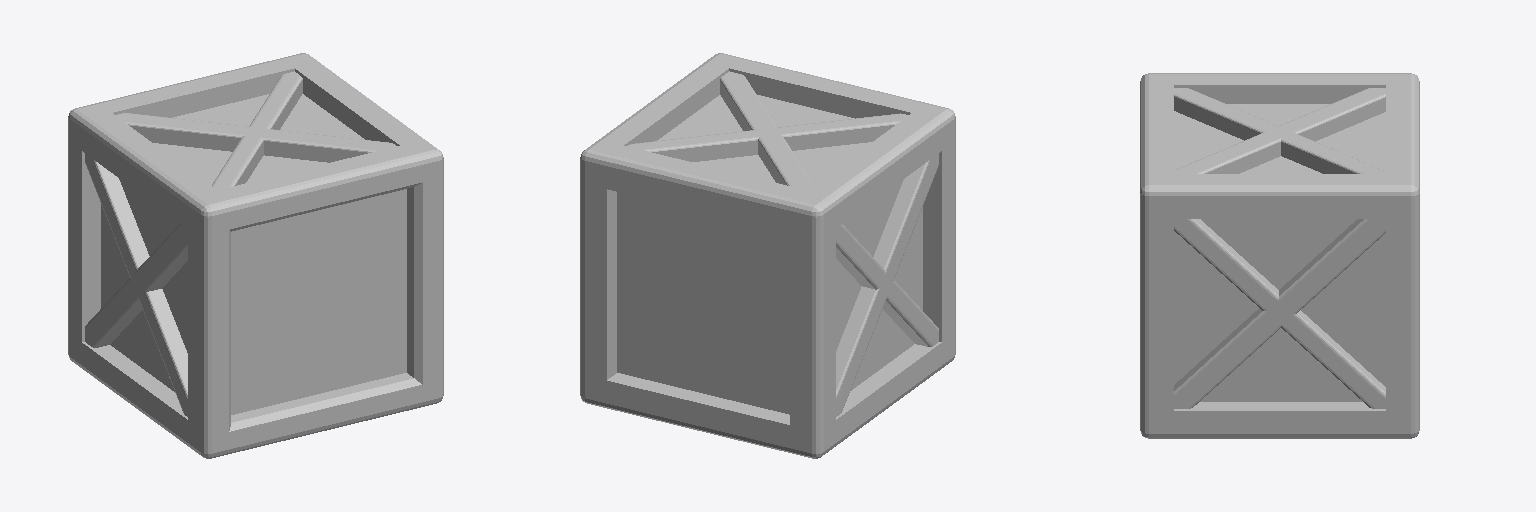
The model's file is Wooden_Crate.obj.
3 views of the same model, side by side, from view 1: azimuth 30°, elevation 25°; view 2: azimuth 150°, elevation 25°; view 3: azimuth 270°, elevation 25° (orthographic).
Visible parts, largest first — view 1: Crate; view 2: Crate; view 3: Crate.
Boxes of the visible parts, box(x1,y1,x2,y2) form: Crate: box(68, 53, 443, 458); Crate: box(580, 53, 955, 458); Crate: box(1140, 73, 1419, 438).
Size of the model in its own units: 5 by 5 by 5.